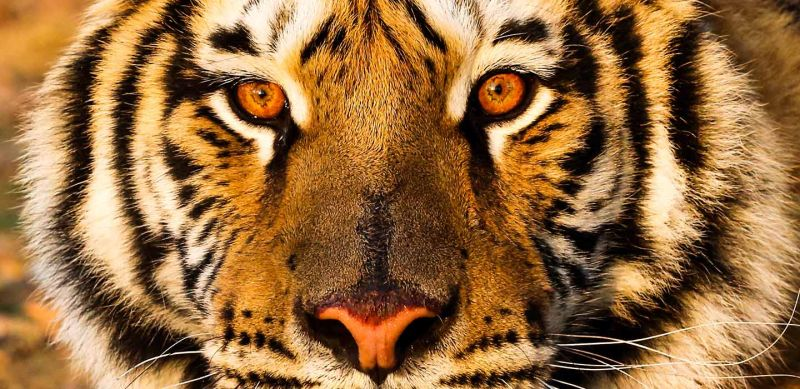Tigrew: (59, 5, 695, 388)
